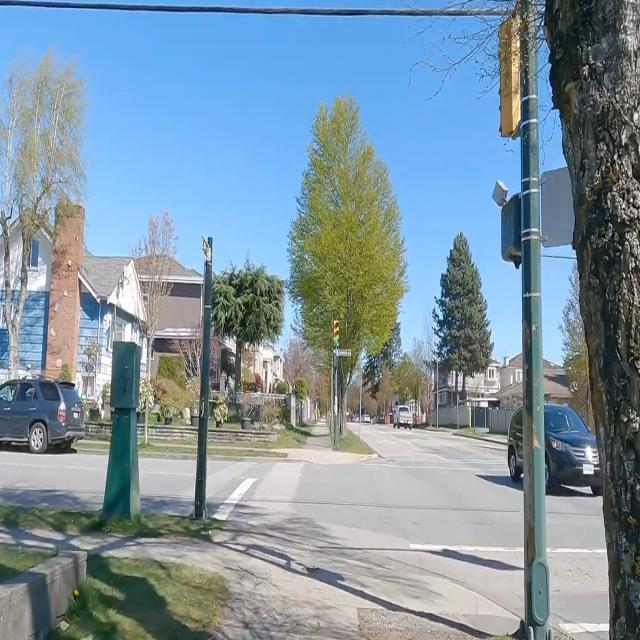Automobile: (0, 377, 84, 453), (545, 403, 600, 494), (507, 409, 522, 480), (393, 404, 413, 428)
Obstacle: (543, 0, 639, 639), (520, 0, 550, 639), (50, 557, 230, 639), (0, 550, 86, 639), (0, 504, 221, 537), (101, 341, 141, 521), (193, 236, 212, 519), (331, 320, 349, 447), (333, 349, 355, 444), (337, 430, 372, 451)
Road: (291, 427, 522, 614), (548, 490, 606, 623), (0, 451, 105, 506), (140, 458, 193, 511), (208, 460, 266, 502), (254, 463, 304, 502)
Sidewalk: (1, 519, 523, 640), (283, 449, 377, 464), (301, 423, 329, 446)
